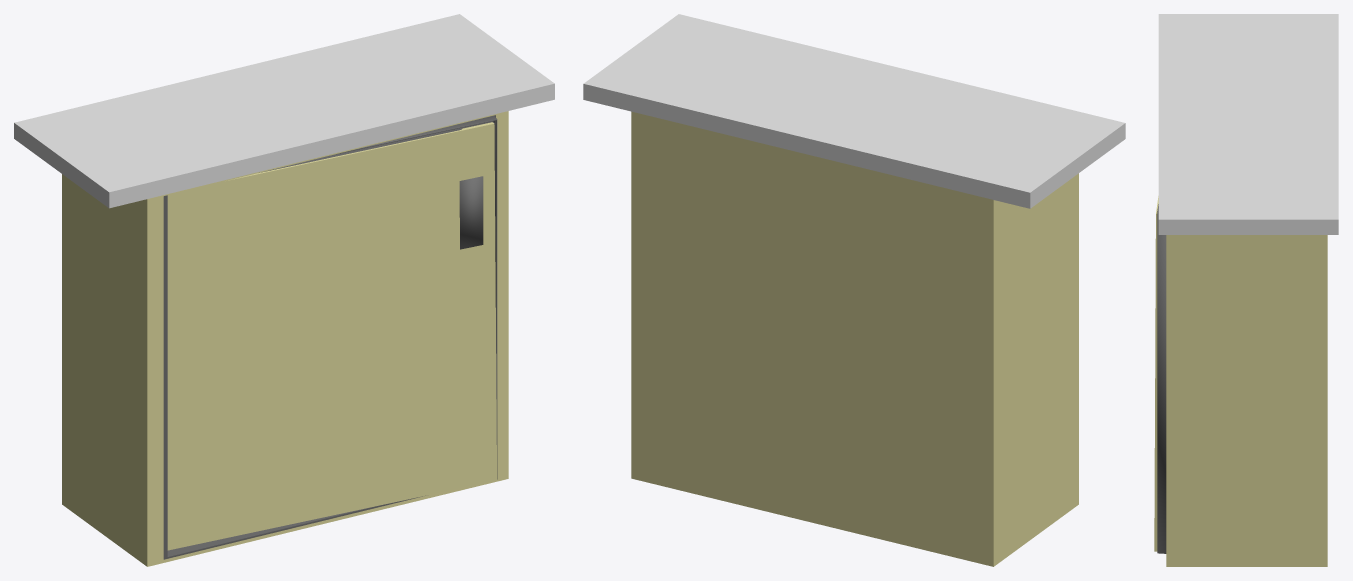
The model's file is Counter Medium.glb.
3 views of the same model, side by side, from view 1: azimuth 30°, elevation 25°; view 2: azimuth 150°, elevation 25°; view 3: azimuth 270°, elevation 25° (orthographic). The views are drawn at different scales.
Visible parts, largest first — view 1: Verso Visuel 21.001; view 2: Verso Visuel 21.001; view 3: Verso Visuel 21.001.
Boxes of the visible parts, x1,y1,x2,y2 form: Verso Visuel 21.001: (14,14,554,566); Verso Visuel 21.001: (583,14,1125,566); Verso Visuel 21.001: (1154,14,1338,566).
Size of the model in its own units: 1.2 by 1 by 0.4558.
